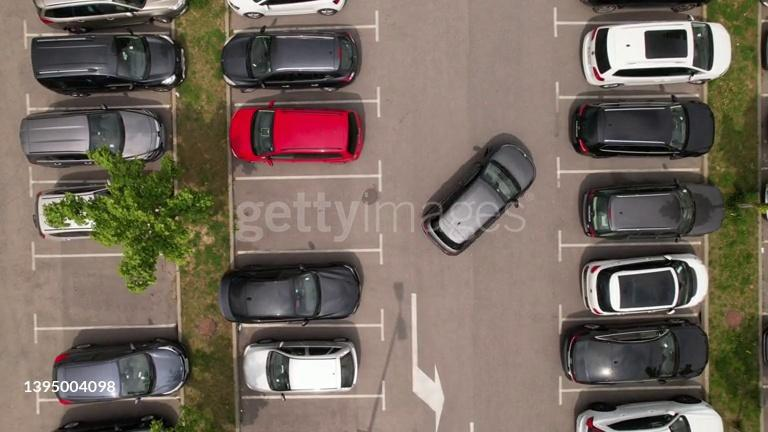car: (426, 143, 531, 251), (583, 20, 728, 87), (219, 263, 361, 322), (52, 341, 186, 402), (21, 108, 163, 165), (583, 180, 720, 238), (223, 30, 357, 89), (567, 325, 702, 383), (583, 253, 707, 313), (574, 103, 711, 157), (232, 112, 366, 162), (33, 182, 145, 241), (244, 340, 358, 393), (575, 396, 720, 430), (34, 0, 184, 29), (52, 414, 168, 432), (579, 0, 705, 13)
